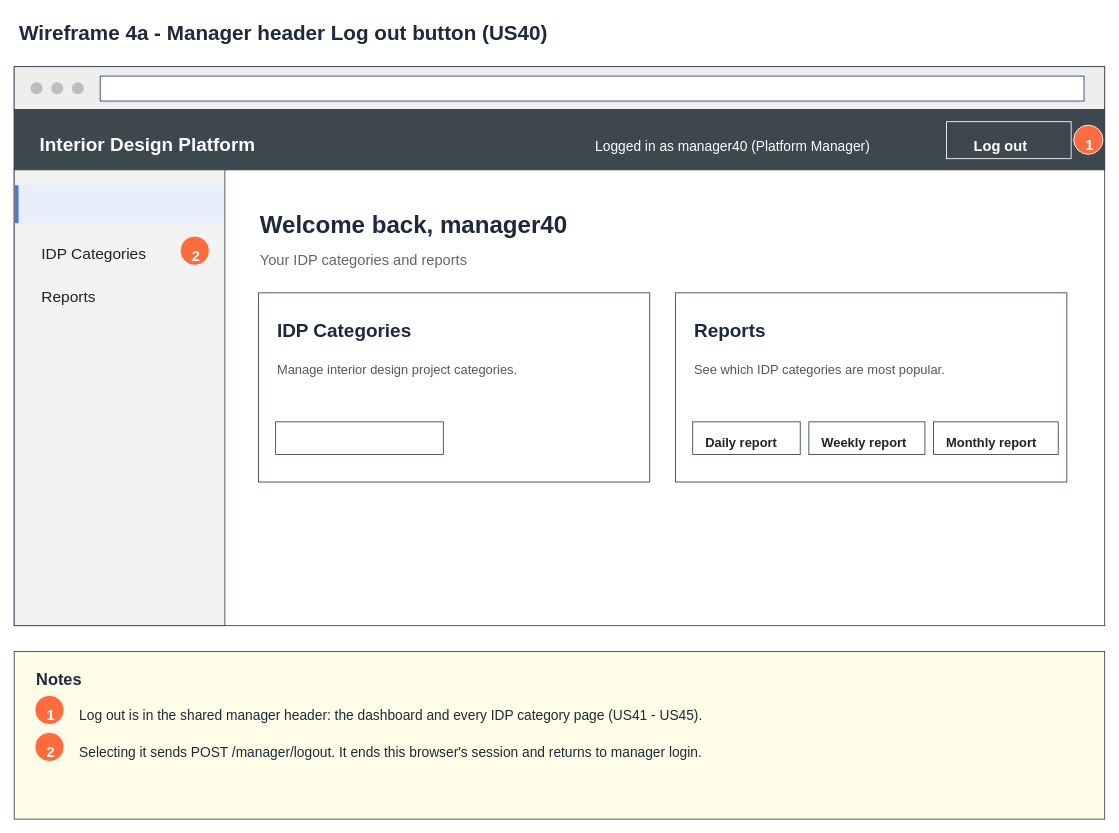
This 1119x833 diagram has some shape labels left out. Each missing label, with the box of its shape:
Dashboard: (15, 185, 224, 223)
localhost:5000/manager/dashboard: (99, 75, 1084, 101)
Manage IDP categories: (275, 421, 443, 455)
